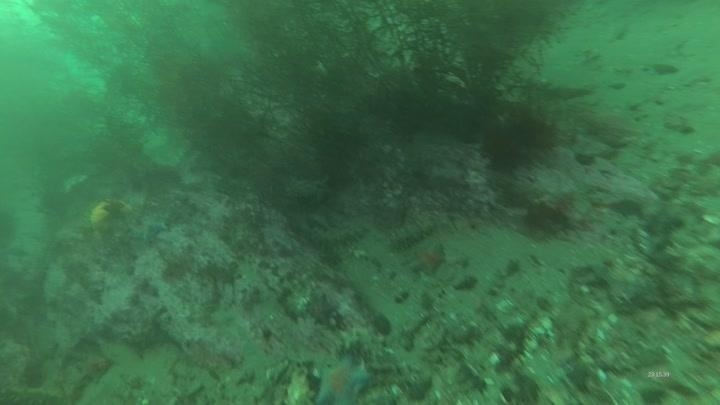holothurian: (304, 217, 372, 250), (387, 217, 437, 252), (4, 379, 69, 405)
scallop: (86, 196, 129, 233)
starfish: (311, 351, 375, 405), (407, 239, 449, 277), (303, 290, 340, 328), (127, 215, 170, 246)
